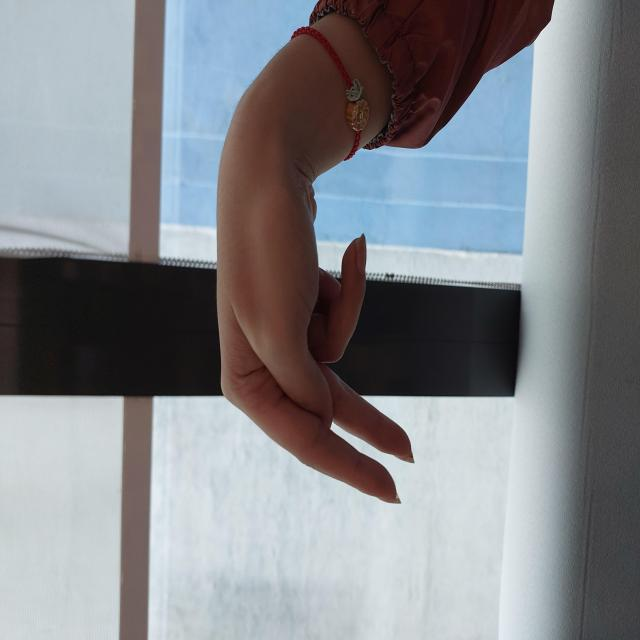P: (141, 213, 535, 414)
